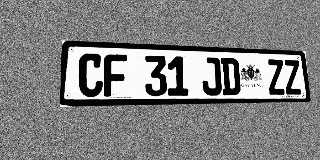1: (167, 56, 188, 96)
3: (145, 55, 167, 96)
C: (78, 53, 103, 97)
D: (220, 58, 241, 95)
F: (104, 54, 127, 97)
J: (201, 57, 222, 95)
Z: (266, 59, 286, 95), (283, 60, 302, 95)
